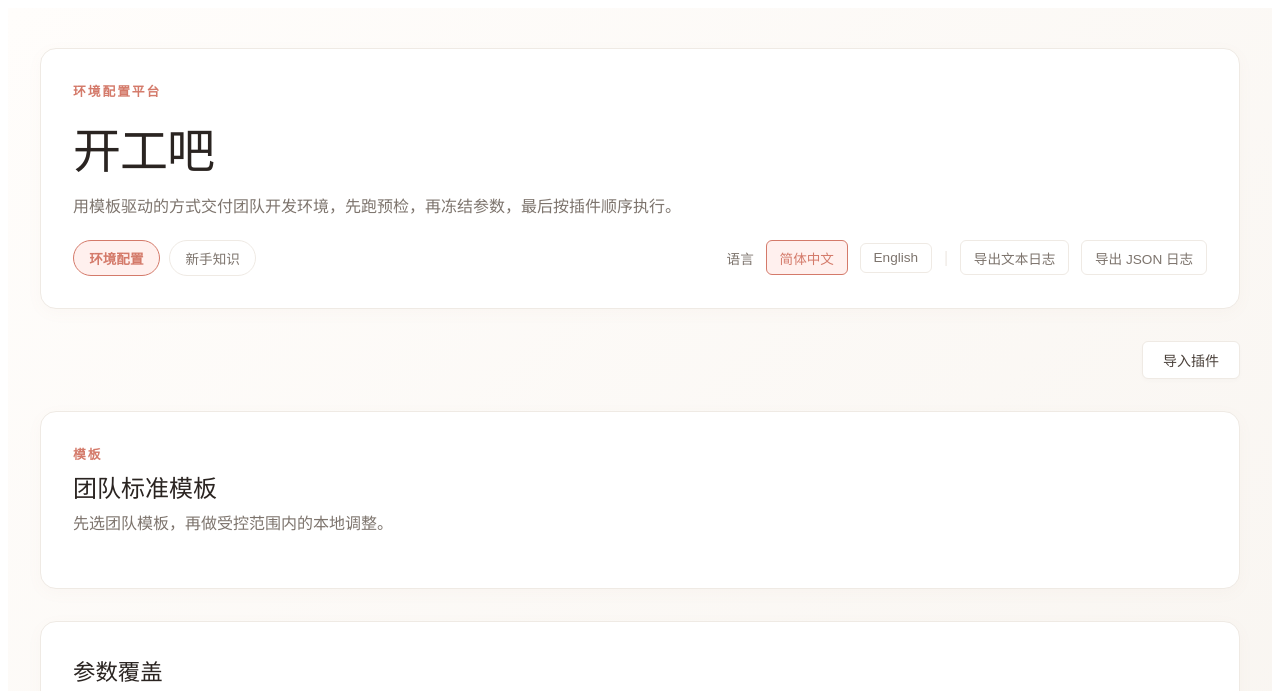
App › switches visible copy to english
Click the button "English" at (896, 258), box [860,243,932,273]
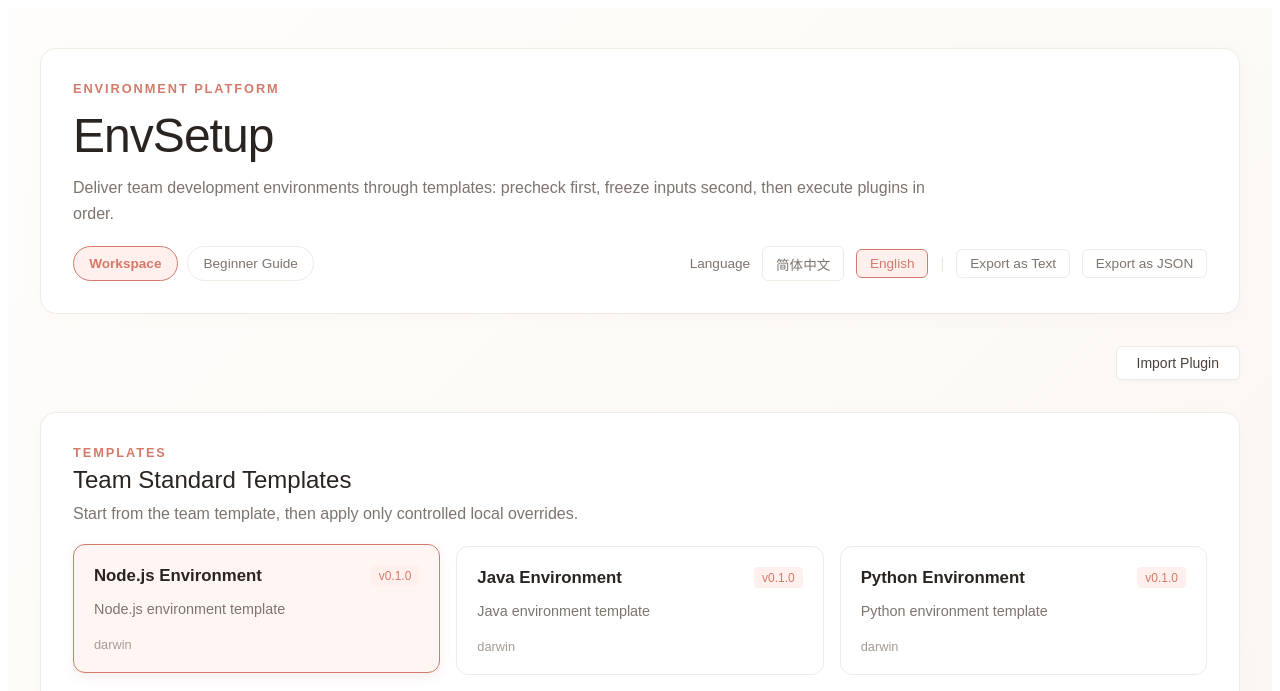
expect the heading "EnvSetup" is shown: met, box [73,109,274,162]
expect the text "Templates" is shown: met, box [73,445,167,460]
expect the text "Node.js Environment" is shown: met, box [94,566,262,586]
